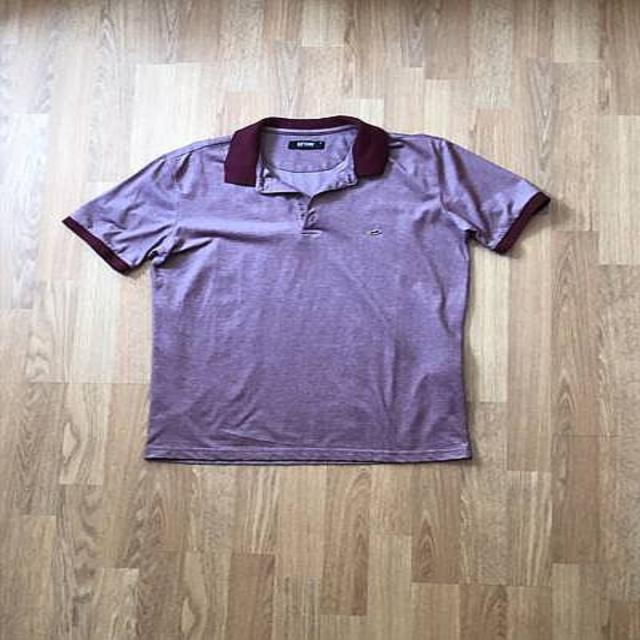T_SHIRT: (54, 110, 558, 478)
